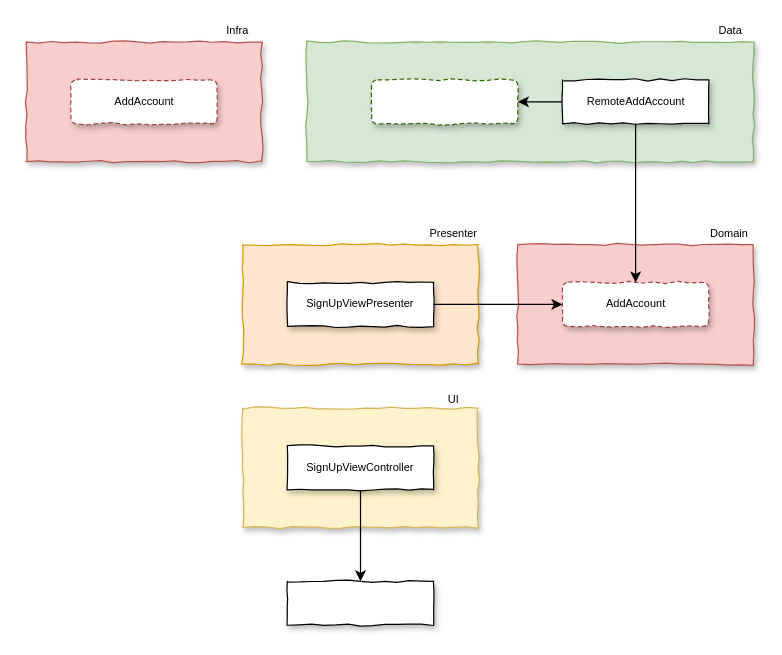
The diagram is 782 pixels wide and 655 high, and some of its shapes have lost their labels. The centre of each missing label's shape, as x and y in pixels:
"HttpClient" goes at [445,103].
"UIKit" goes at [361,604].
